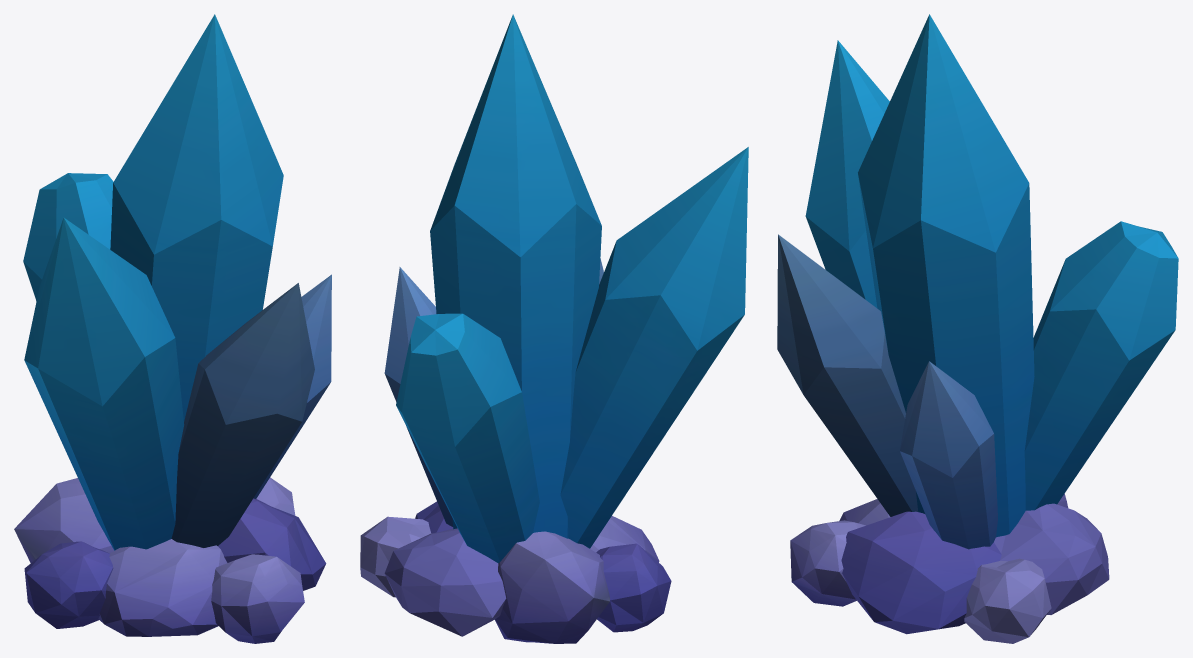
The model's file is CrystalResourse1.glb.
3 views of the same model, side by side, from view 1: azimuth 30°, elevation 25°; view 2: azimuth 150°, elevation 25°; view 3: azimuth 270°, elevation 25° (orthographic). The views are drawn at different scales.
Parts seen in each view (by area): view 1: CrystalResource3, Cube.004, Cube.006, Landscape, Landscape.005, Landscape.004, Cube.001, Landscape.001, Landscape.003, Cube.005, Landscape.006; view 2: CrystalResource3, Cube.004, Cube.001, Landscape.003, Landscape.002, Landscape.004, Cube.005, Landscape.006, Landscape, Landscape.001; view 3: CrystalResource3, Cube.001, Cube.006, Cube.005, Landscape.001, Cube.004, Landscape.002, Landscape.006, Landscape.005, Landscape.
Boxes of the visible parts, x1,y1,x2,y2 form: CrystalResource3: [110, 14, 283, 421]; Cube.004: [24, 217, 184, 550]; Cube.006: [171, 283, 314, 547]; Landscape: [98, 539, 227, 636]; Landscape.005: [211, 554, 304, 643]; Landscape.004: [24, 541, 113, 628]; Cube.001: [23, 173, 113, 301]; Landscape.001: [218, 498, 326, 590]; Landscape.003: [14, 478, 114, 562]; Cube.005: [253, 274, 331, 498]; Landscape.006: [256, 477, 295, 515]; CrystalResource3: [430, 14, 601, 538]; Cube.004: [560, 147, 748, 548]; Cube.001: [396, 313, 539, 563]; Landscape.003: [495, 531, 609, 643]; Landscape.002: [384, 528, 506, 636]; Landscape.004: [596, 543, 671, 632]; Cube.005: [384, 267, 452, 526]; Landscape.006: [360, 516, 431, 597]; Landscape: [590, 516, 659, 562]; Landscape.001: [415, 501, 453, 533]; CrystalResource3: [858, 14, 1034, 537]; Cube.001: [1024, 221, 1178, 510]; Cube.006: [777, 234, 918, 516]; Cube.005: [900, 361, 997, 549]; Landscape.001: [841, 511, 1001, 634]; Cube.004: [805, 40, 889, 307]; Landscape.002: [994, 503, 1109, 614]; Landscape.006: [964, 558, 1051, 643]; Landscape.005: [790, 520, 865, 606]; Landscape: [839, 499, 890, 525].
Bounding box in the file's own units: 0.7923 × 1.39 × 0.8448.
1 material, 1 textured.
